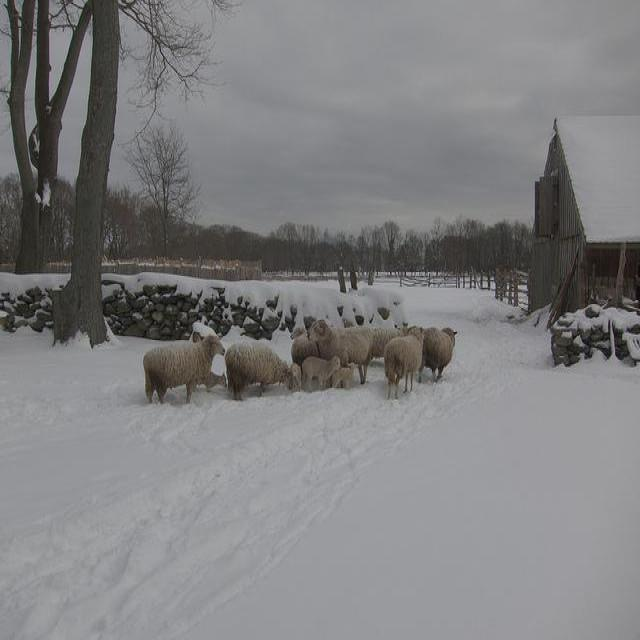Sheep: (144, 335, 226, 405), (308, 317, 378, 391), (227, 336, 292, 404), (385, 327, 426, 400), (418, 325, 460, 384)
